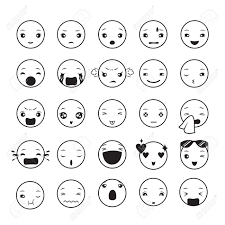feliz: (15, 17, 47, 50), (140, 61, 171, 90), (142, 65, 167, 84)
triste: (132, 96, 176, 134), (93, 57, 133, 91), (52, 20, 93, 52), (99, 19, 134, 52), (140, 176, 172, 211), (56, 179, 88, 210), (141, 105, 166, 124), (100, 65, 125, 84), (60, 185, 82, 205), (101, 27, 123, 46), (60, 29, 83, 44), (143, 185, 165, 200)
